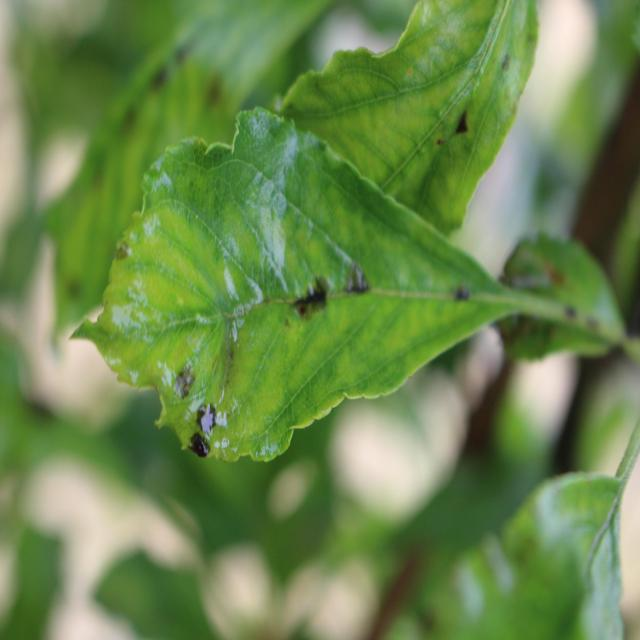scab: (133, 350, 235, 486), (406, 98, 495, 195), (274, 256, 380, 332), (538, 278, 608, 371), (91, 219, 148, 269), (449, 260, 470, 340)
